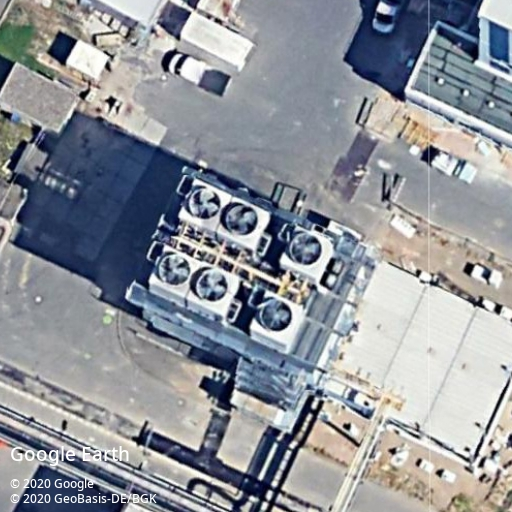Vent: (258, 298, 293, 332), (289, 232, 323, 266), (196, 269, 229, 303), (158, 254, 192, 286), (188, 188, 221, 219), (226, 205, 258, 236)
